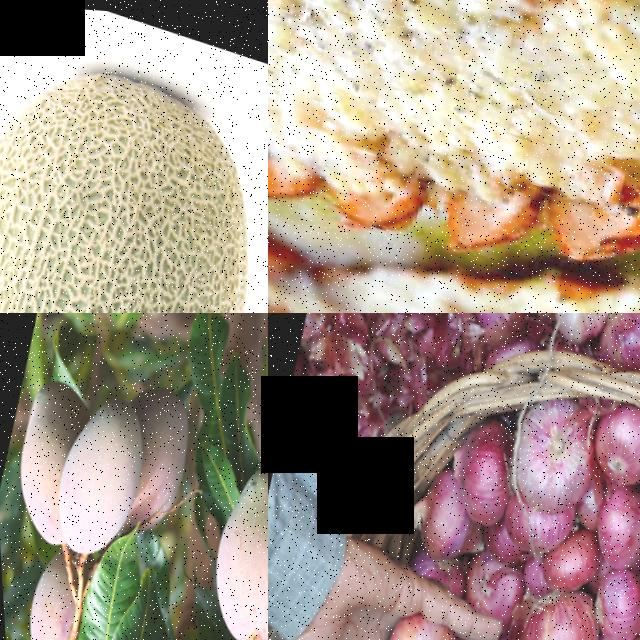mango: (39, 388, 157, 567), (186, 447, 268, 640), (0, 371, 87, 543), (116, 385, 202, 535), (5, 548, 88, 640)
melon: (0, 15, 268, 313)
onion: (494, 393, 605, 521), (443, 411, 523, 529), (506, 578, 606, 640), (585, 477, 640, 570), (584, 395, 640, 485), (582, 560, 640, 640), (368, 601, 456, 640)
